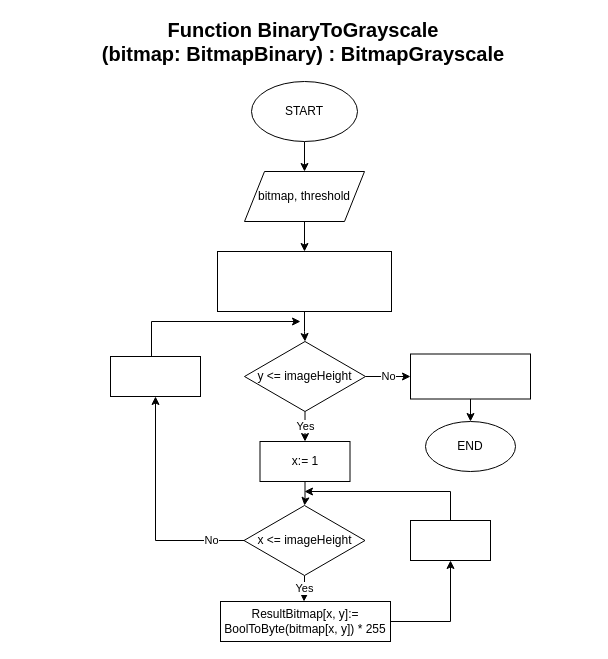
Image size: 608x659. Some labels were removed from this diagram. The centre of each missing label's shape, as x and y in pixels:
ResultBitmap: BitmapGrayscale y:= 1: point 304,281
return ResultBitmap: point 470,376
x:= x + 1: point 450,540
y:= y + 1: point 155,376
